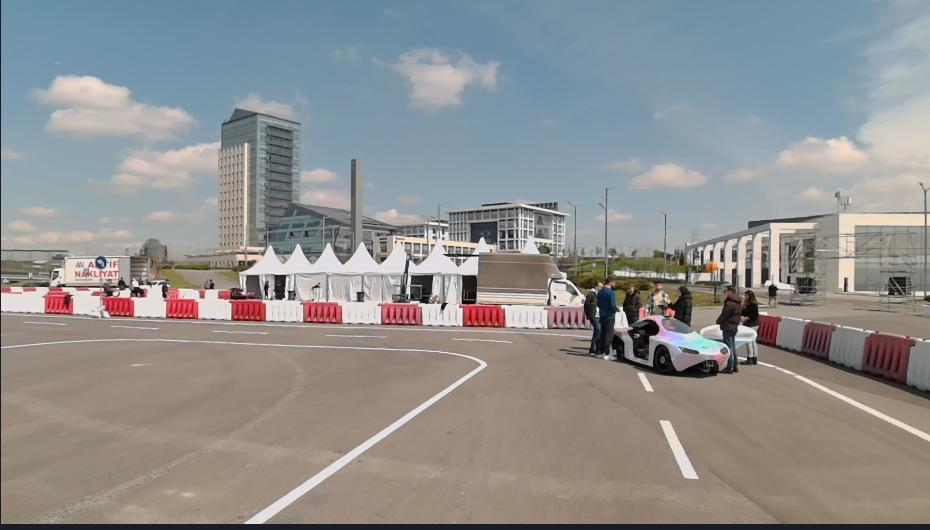nesne: (2, 309, 929, 529), (1, 311, 719, 527), (0, 336, 485, 524), (635, 356, 928, 527), (103, 298, 592, 331), (760, 358, 928, 442), (611, 314, 729, 376), (444, 252, 585, 302), (49, 253, 149, 292), (858, 330, 912, 384), (657, 418, 696, 479), (599, 276, 621, 361), (719, 283, 740, 371), (736, 288, 758, 363), (903, 336, 929, 396), (584, 280, 604, 357), (827, 326, 862, 369), (800, 317, 830, 361), (548, 304, 594, 330), (502, 305, 549, 329), (774, 313, 803, 350), (460, 304, 503, 326), (646, 279, 671, 316), (420, 304, 462, 326), (670, 283, 692, 325), (382, 302, 421, 325), (623, 278, 643, 322), (1, 292, 44, 312), (303, 300, 341, 322), (230, 300, 267, 321), (265, 300, 302, 321), (343, 303, 380, 323), (132, 297, 164, 319), (164, 298, 196, 320), (196, 301, 230, 320), (43, 293, 72, 314), (103, 298, 133, 318), (758, 314, 777, 342), (72, 294, 99, 313), (449, 336, 512, 344), (635, 371, 656, 393), (210, 327, 269, 334), (764, 278, 777, 307), (736, 324, 753, 345), (701, 325, 723, 340), (79, 305, 107, 316), (325, 333, 386, 338), (109, 324, 157, 330), (23, 319, 69, 325), (129, 278, 143, 296), (160, 275, 171, 296), (94, 255, 108, 270), (178, 288, 198, 297), (103, 278, 113, 295), (98, 269, 102, 306), (202, 278, 216, 288), (204, 288, 218, 298), (618, 310, 627, 325), (118, 275, 126, 291), (263, 277, 269, 297), (168, 288, 177, 297), (217, 290, 227, 297), (196, 290, 203, 297)
